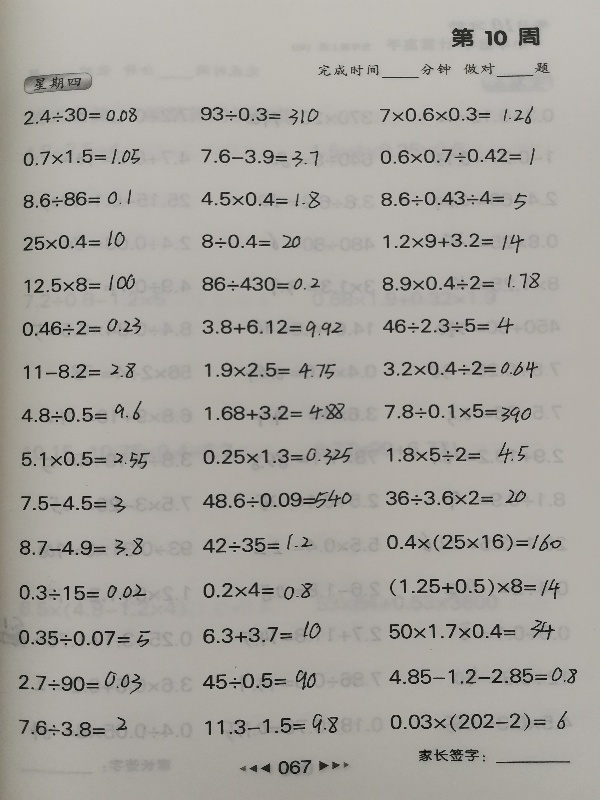equation: (381, 528, 569, 555), (385, 573, 563, 601), (386, 619, 562, 647), (386, 709, 573, 734), (1, 622, 153, 652), (379, 268, 544, 295), (382, 666, 582, 688), (376, 102, 538, 128), (199, 487, 355, 513), (381, 398, 535, 424), (377, 186, 530, 212), (199, 444, 356, 469), (377, 145, 539, 169), (380, 356, 541, 380), (379, 229, 527, 255), (201, 710, 341, 737), (15, 666, 145, 695), (199, 662, 319, 693), (201, 400, 348, 425), (199, 315, 345, 339), (18, 398, 145, 425), (382, 486, 529, 509), (201, 358, 339, 382), (380, 314, 518, 338), (198, 620, 325, 646), (16, 534, 147, 559), (17, 447, 153, 471), (18, 314, 144, 339), (198, 187, 324, 212), (196, 103, 322, 128), (14, 714, 130, 741), (16, 581, 151, 604), (383, 444, 530, 465), (197, 145, 322, 169), (19, 145, 143, 169), (200, 579, 317, 604), (199, 531, 315, 556), (20, 103, 140, 127), (21, 359, 140, 383), (21, 272, 138, 296), (199, 273, 324, 295), (17, 491, 129, 515), (19, 187, 134, 210), (19, 229, 128, 252), (199, 231, 305, 253)
